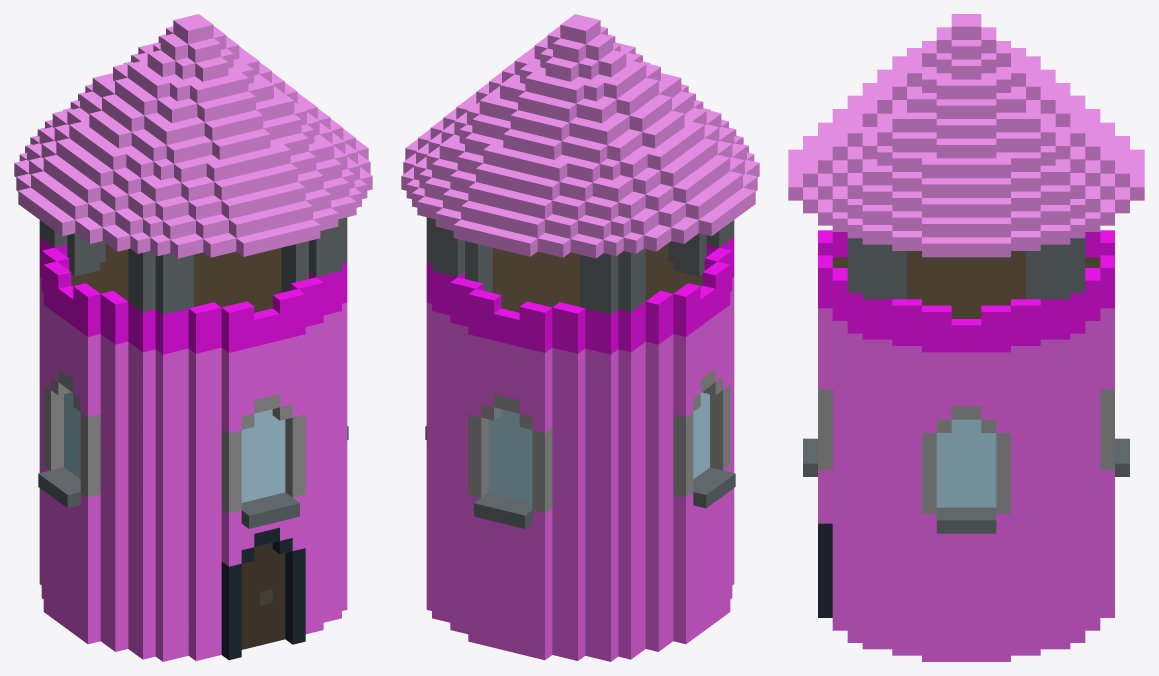
Rendered from tower.obj.
3 views of the same model, side by side, from view 1: azimuth 30°, elevation 25°; view 2: azimuth 150°, elevation 25°; view 3: azimuth 270°, elevation 25° (orthographic).
Size of the model in its own units: 2.4 by 4.3 by 2.4.
